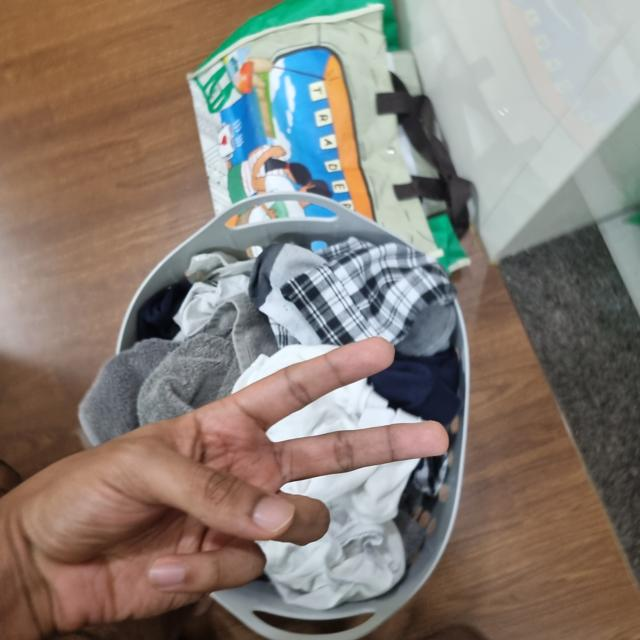Scissors: (1, 342, 450, 639)
